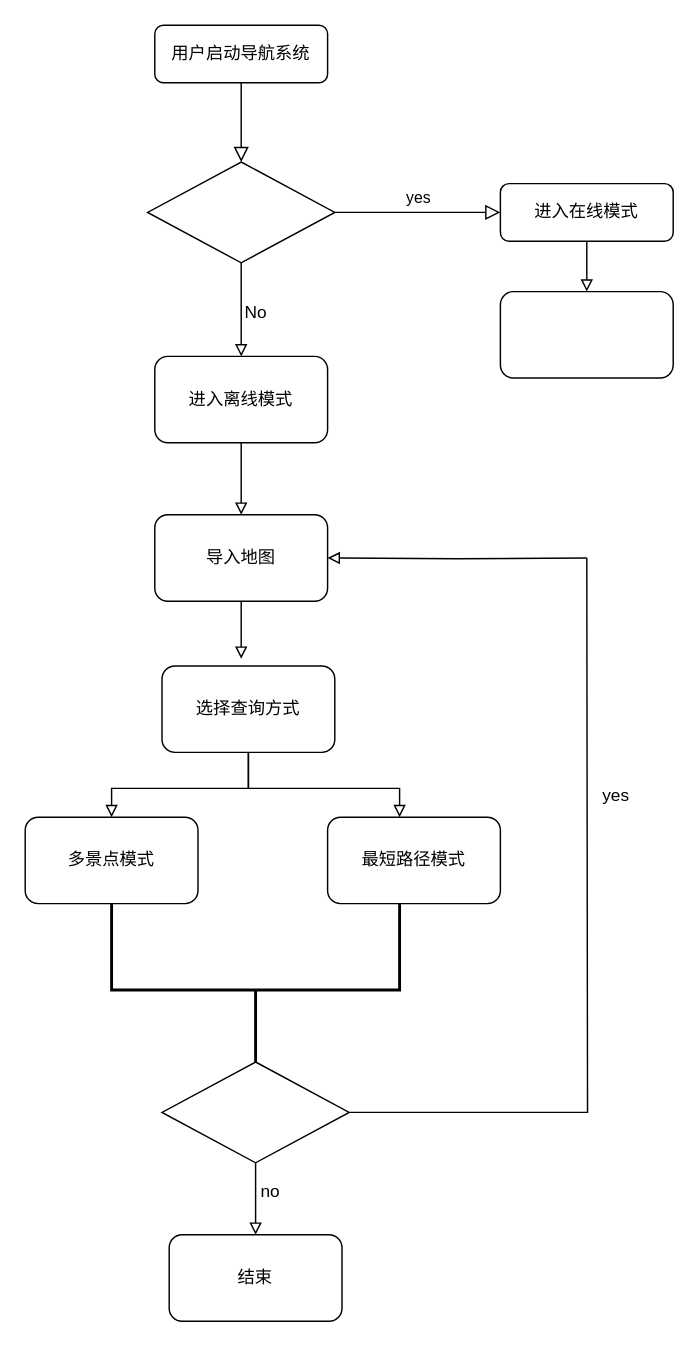
Some shapes in this 698 by 1346 pixel diagram are drawn without their labels. Each missing label, with the centre of its shape:
在地图上直接标记，获取最短路径: point 586,334
是否需要更新地图？: point 255,1112
是否需要联网功能？: point 240,212
查询完毕: point 254,989
